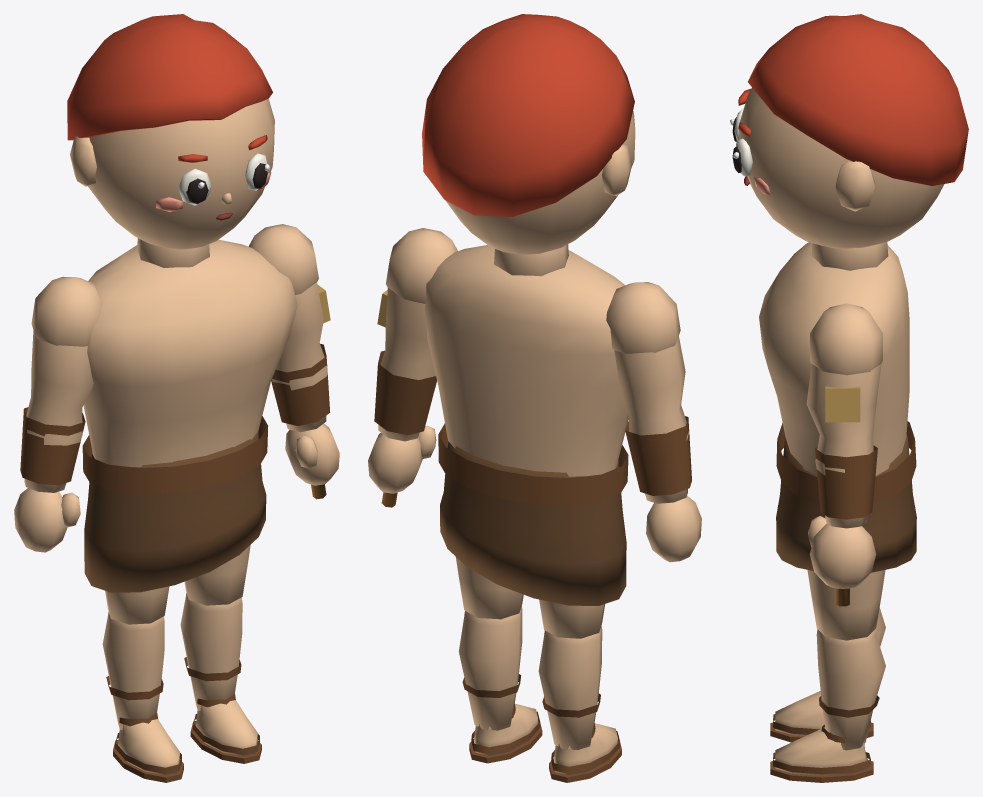
The model's file is schmiedlehrling.glb.
3 views of the same model, side by side, from view 1: azimuth 30°, elevation 25°; view 2: azimuth 150°, elevation 25°; view 3: azimuth 270°, elevation 25° (orthographic). The views are drawn at different scales.
Parts seen in each view (by area): view 1: rumpf, kopf, haare, huefte, armL, armR, knieR, knieL, beinR, beinL, augeL, augeR; view 2: rumpf, haare, huefte, armL, armR, kopf, knieR, knieL, beinR, beinL; view 3: haare, rumpf, kopf, armR, knieR, huefte, beinR, knieL, itemR, augeR.
Part boxes in pixels (bbox=[...]): rumpf: bbox=[82, 239, 297, 494]; kopf: bbox=[70, 98, 274, 267]; haare: bbox=[67, 14, 272, 140]; huefte: bbox=[84, 432, 266, 592]; armL: bbox=[14, 276, 102, 552]; armR: bbox=[248, 224, 339, 485]; knieR: bbox=[180, 593, 261, 763]; knieL: bbox=[102, 612, 183, 782]; beinR: bbox=[184, 544, 250, 605]; beinL: bbox=[105, 586, 169, 624]; augeL: bbox=[178, 168, 211, 205]; augeR: bbox=[245, 153, 269, 190]; rumpf: bbox=[425, 245, 628, 505]; haare: bbox=[422, 14, 634, 216]; huefte: bbox=[440, 441, 626, 605]; armL: bbox=[606, 282, 701, 562]; armR: bbox=[368, 228, 457, 493]; kopf: bbox=[445, 110, 635, 276]; knieR: bbox=[458, 606, 542, 763]; knieL: bbox=[538, 626, 621, 782]; beinR: bbox=[456, 557, 523, 619]; beinL: bbox=[539, 599, 605, 638]; haare: bbox=[748, 14, 968, 185]; rumpf: bbox=[759, 242, 916, 504]; kopf: bbox=[739, 87, 944, 270]; armR: bbox=[806, 303, 882, 588]; knieR: bbox=[770, 629, 885, 782]; huefte: bbox=[776, 435, 916, 572]; beinR: bbox=[807, 570, 885, 640]; knieL: bbox=[770, 608, 885, 742]; itemR: bbox=[825, 386, 860, 606]; augeR: bbox=[732, 138, 752, 176].
Size of the model in its own units: 1.05 by 2.3 by 0.6822.
